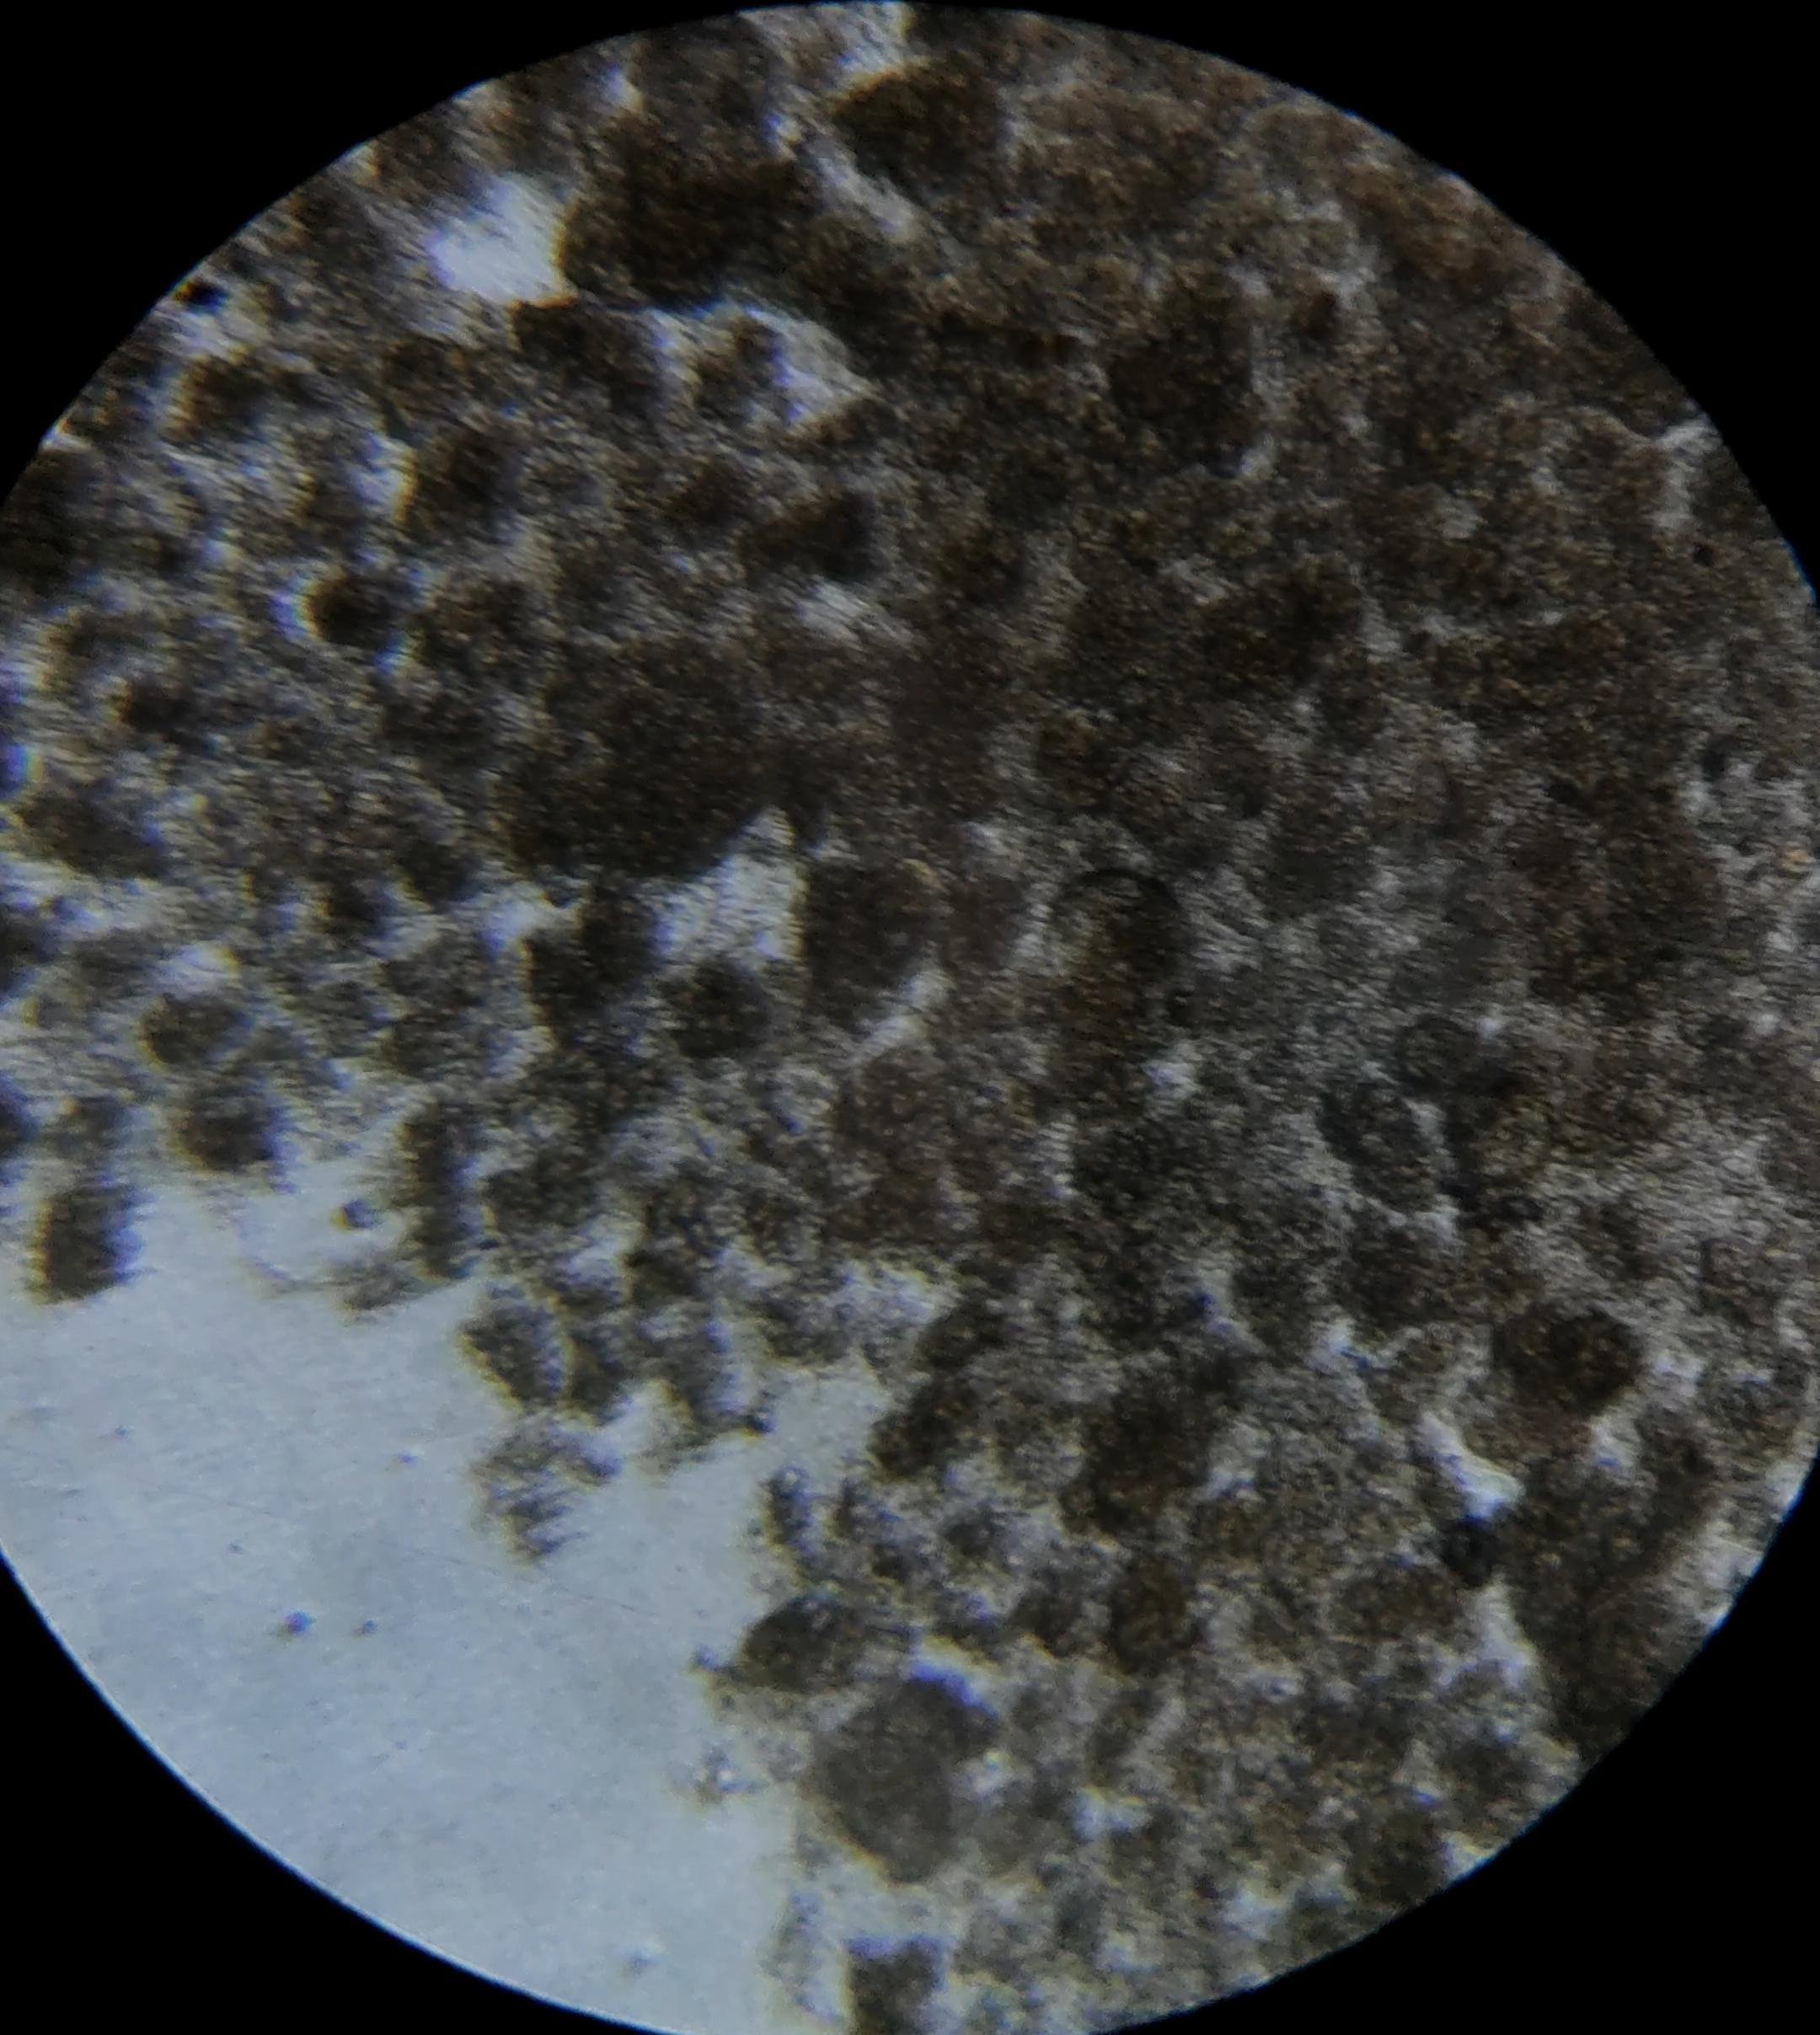Arcella: (1047, 870, 1191, 1023)
